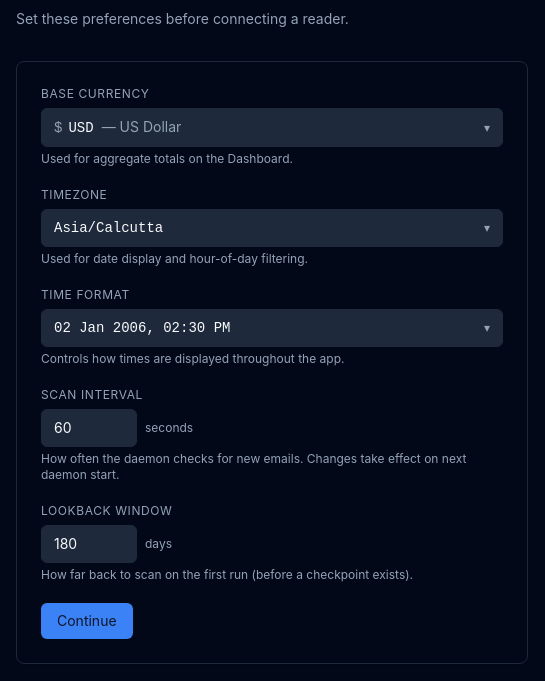
Wizard guide layout › advances to reader configuration after preferences are saved
(page scrolled)
Click the button "Continue".
click(87, 621)  # box [41,603,133,639]
(page scrolled)
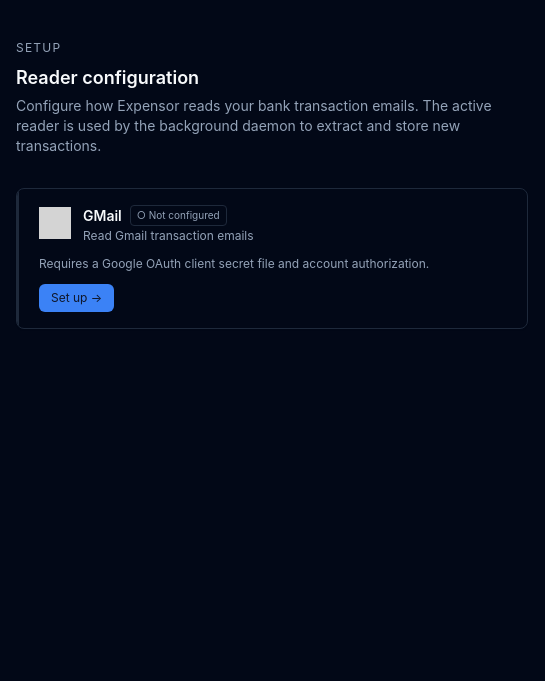
Expected: the heading "Reader configuration" is shown, [16,67,199,88]
